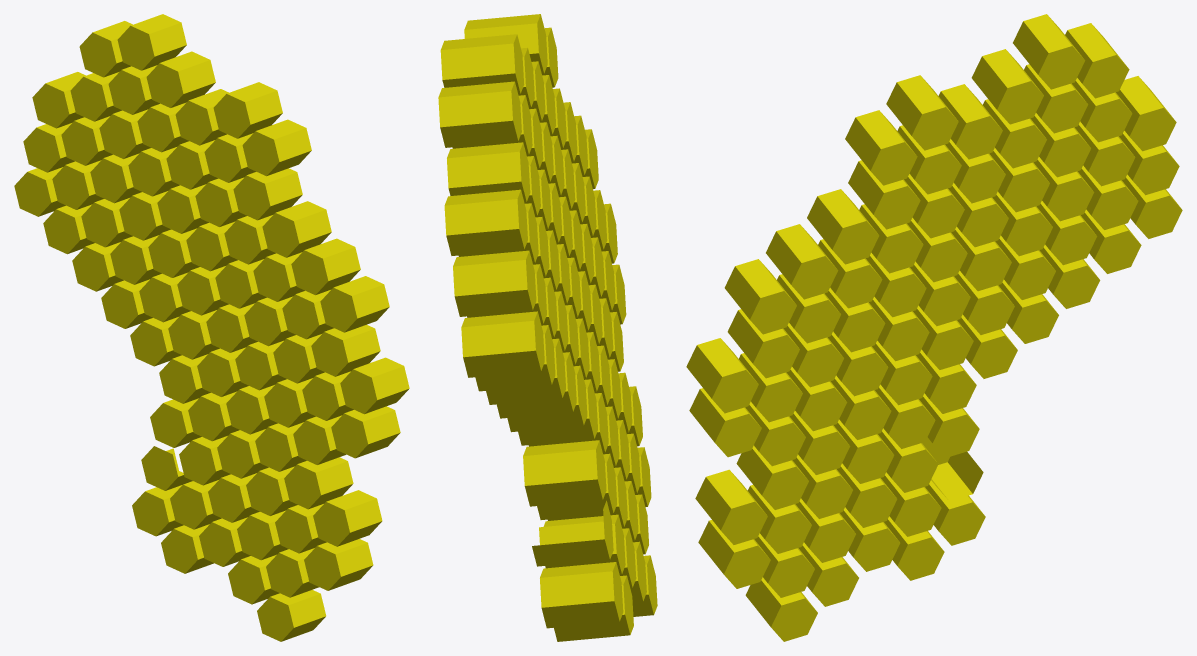
The model's file is honeycomb.fbx.
The picture shows the model from 3 angles, left to right: view 1: azimuth 30°, elevation 25°; view 2: azimuth 150°, elevation 25°; view 3: azimuth 270°, elevation 25°; orthographic projection. The views are drawn at different scales.
Visible parts, largest first — view 1: Honeycomb; view 2: Honeycomb; view 3: Honeycomb.
Part boxes in pixels (bbox=[...]): Honeycomb: bbox=[14, 14, 409, 641]; Honeycomb: bbox=[438, 14, 657, 641]; Honeycomb: bbox=[686, 14, 1182, 641].
Size of the model in its own units: 32.7 by 85.54 by 64.89.
